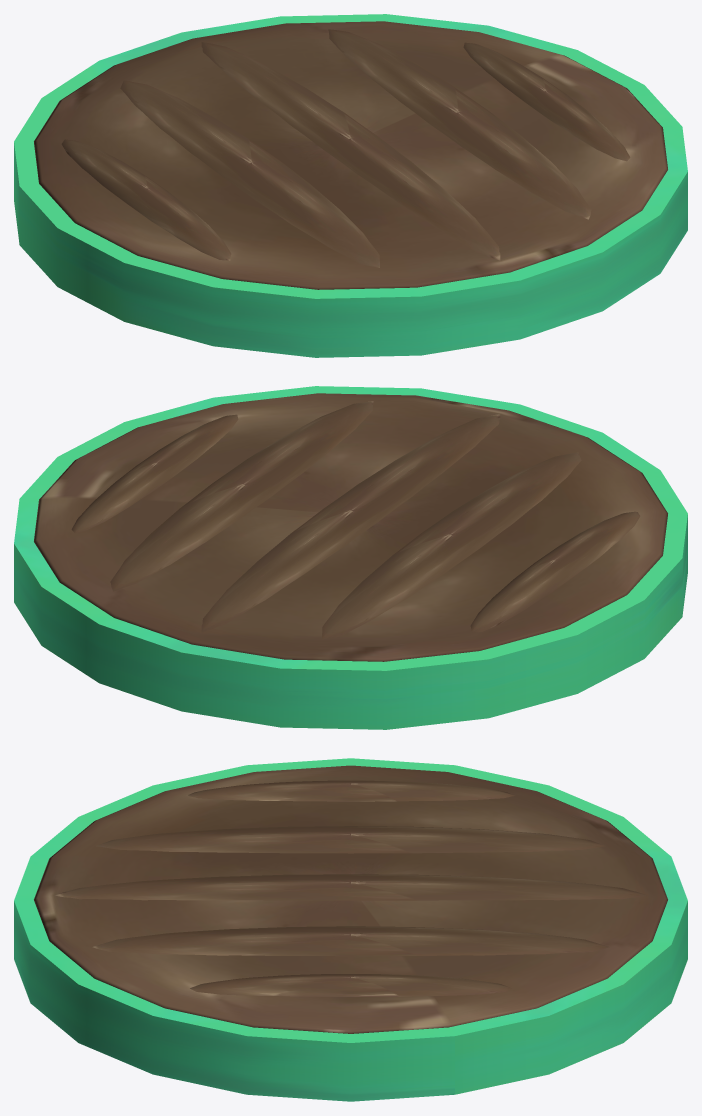
File: green.dae
The picture shows the model from 3 angles, top to bottom: view 1: azimuth 30°, elevation 25°; view 2: azimuth 150°, elevation 25°; view 3: azimuth 270°, elevation 25°; orthographic projection.
Parts seen in each view (by area): view 1: pSphere7, pCylinder1; view 2: pSphere7, pCylinder1; view 3: pSphere7, pCylinder1.
Boxes of the visible parts, box(x1,y1,x2,y2) form: pSphere7: box(34, 21, 667, 289); pCylinder1: box(14, 14, 687, 357); pSphere7: box(34, 393, 667, 661); pCylinder1: box(14, 386, 687, 729); pSphere7: box(34, 765, 667, 1033); pCylinder1: box(14, 758, 687, 1101).
Size of the model in its own units: 4.67 by 0.5852 by 4.67.
